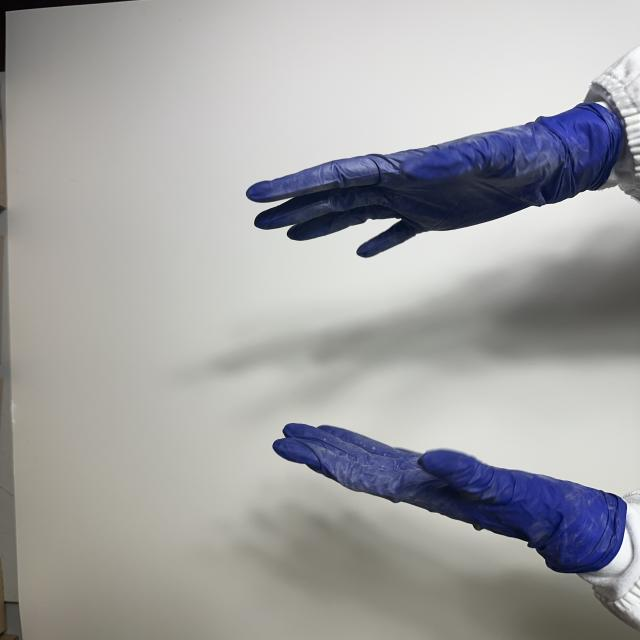gloves_contaminated: (247, 103, 624, 257), (273, 423, 627, 573)
